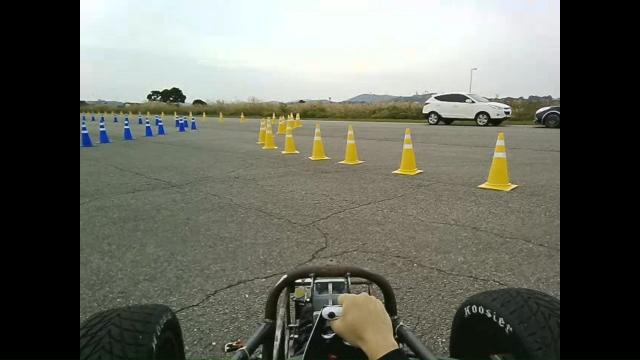blue cone: (96, 116, 116, 147), (121, 111, 138, 142), (142, 116, 158, 138)
yellow cone: (477, 131, 519, 192), (391, 127, 424, 176), (337, 124, 365, 165), (308, 123, 331, 161), (280, 125, 300, 154), (262, 128, 278, 150), (255, 121, 267, 145), (276, 115, 286, 134)
